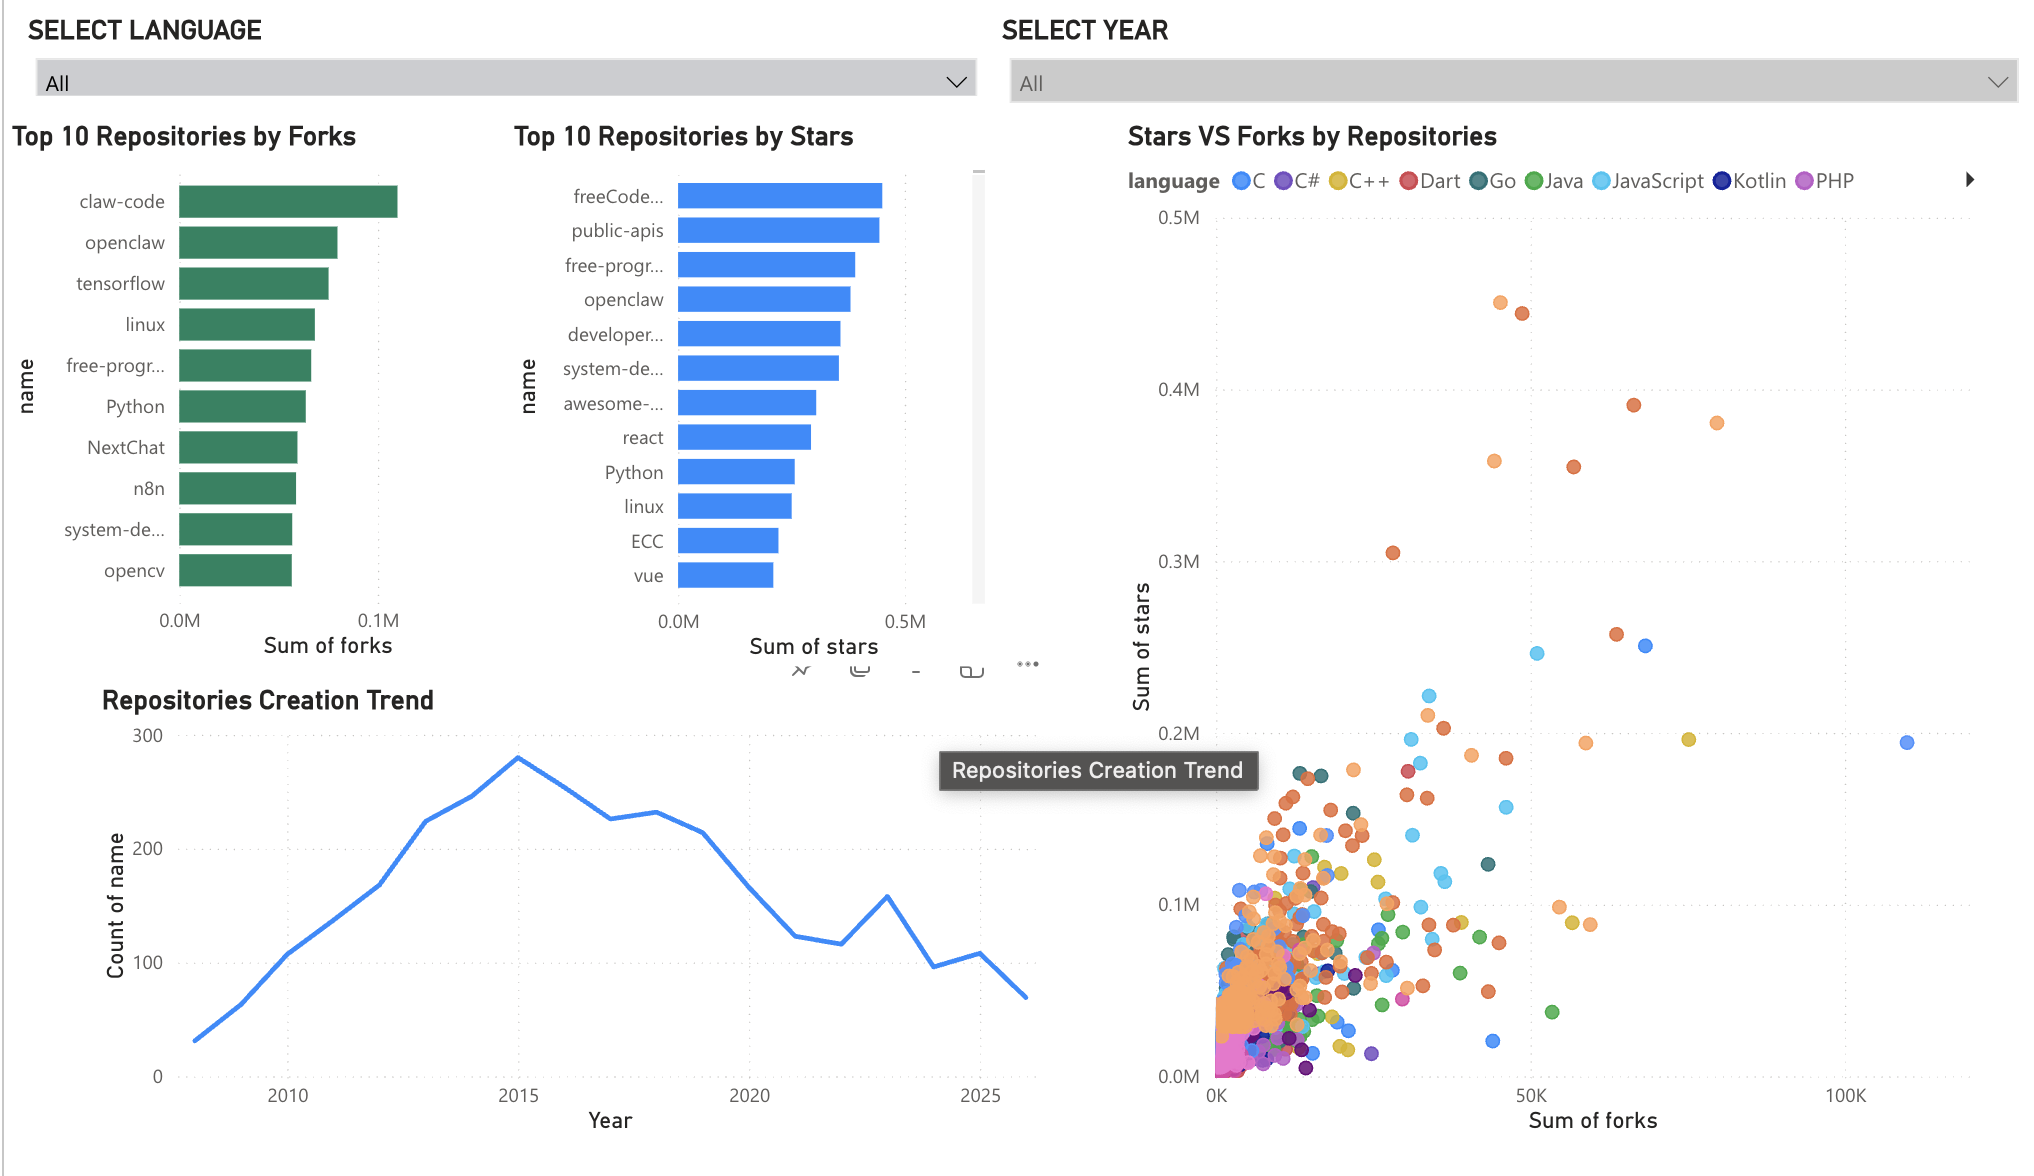

The page's visual inventory and layout, read from the dashboard file:
{"tool":"powerbi","page":{"name":"Repository Performace","canvas":[1280,720],"ordinal":2},"visuals":[{"type":"clusteredBarChart","title":"Top 10 Repositories by Forks","fields":{"Category":["github_1000_repos.name"],"Y":["Sum(github_1000_repos.forks)"]},"box":[0,79.3,317.3,341.7],"z":0},{"type":"scatterChart","title":"Stars VS Forks by Repositories","fields":{"Category":["github_1000_repos.name"],"Series":["github_repos.language"],"X":["Sum(github_1000_repos.forks)"],"Y":["Sum(github_1000_repos.stars)"]},"box":[703.3,79.3,555.3,640.8],"z":1000},{"type":"lineChart","title":"Repositories Creation Trend","fields":{"Category":["github_repos.created_at.Variation.Date Hierarchy.Year"],"Y":["CountNonNull(github_1000_repos.name)"]},"box":[56.4,434.8,605.7,285.3],"z":2000},{"type":"slicer","title":"SELECT LANGUAGE","fields":{"Values":["github_1000_repos.language"]},"box":[10.7,12.2,613.3,48.8],"z":5001},{"type":"slicer","title":"SELECT YEAR","fields":{"Values":["github_repos.created_at.Variation.Date Hierarchy.Year"]},"box":[624,12.2,656,67.1],"z":5002},{"type":"clusteredBarChart","title":"Top 10 Repositories by Stars","fields":{"Category":["github_repos.name"],"Y":["Sum(github_repos.stars)"]},"box":[317,79,307,342],"z":5003}]}

Visuals, with their boxes in screenshot pixels (x1, y1, x2, y2), scaled from the page's 1280x720 canvas onto the 2034x1176 screenshot:
"Top 10 Repositories by Forks" clusteredBarChart: 0 130 504 688
"Stars VS Forks by Repositories" scatterChart: 1118 130 2000 1175
"Repositories Creation Trend" lineChart: 90 710 1052 1175
"SELECT LANGUAGE" slicer: 17 20 992 100
"SELECT YEAR" slicer: 992 20 2033 130
"Top 10 Repositories by Stars" clusteredBarChart: 504 129 992 688
